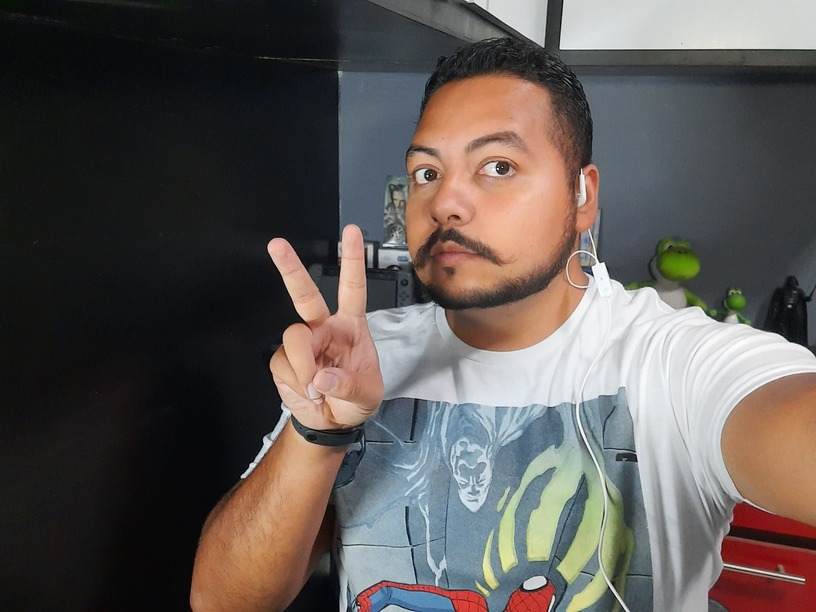Yoshi: (378, 21, 642, 349)
